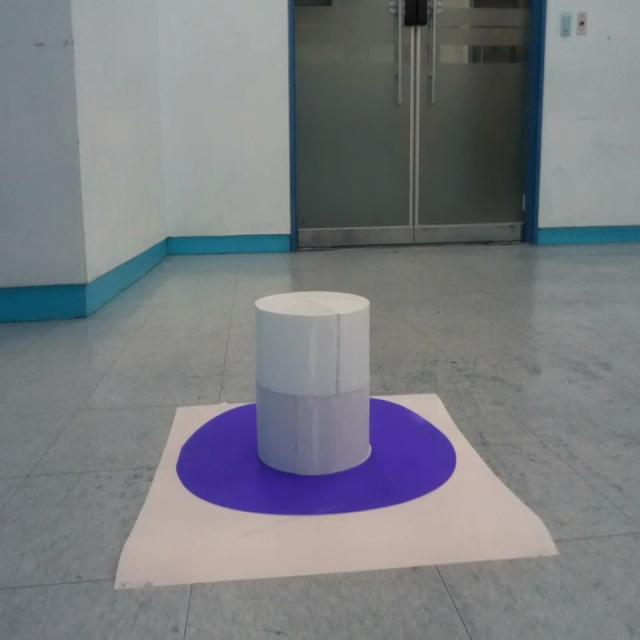cylinder: (254, 291, 372, 475)
